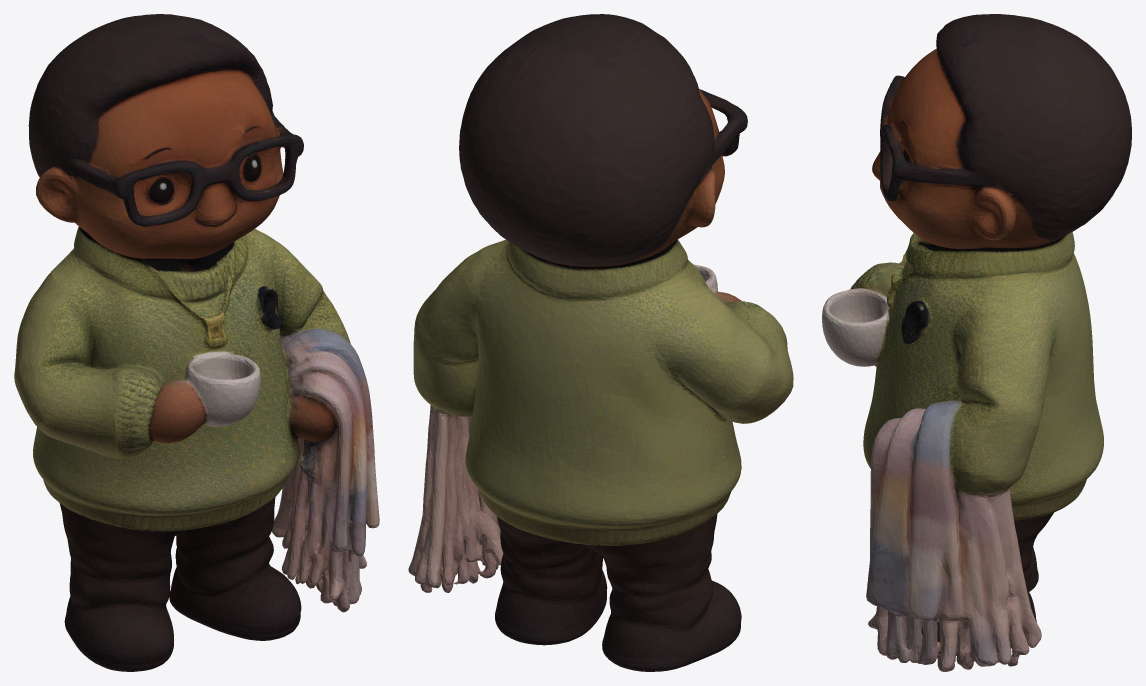
The model's file is ben.glb.
3 views of the same model, side by side, from view 1: azimuth 30°, elevation 25°; view 2: azimuth 150°, elevation 25°; view 3: azimuth 270°, elevation 25° (orthographic). The views are drawn at different scales.
Visible parts, largest first — view 1: material; view 2: material; view 3: material.
Boxes of the visible parts, box(x1,y1,x2,y2) form: material: box(14, 14, 379, 671); material: box(408, 14, 793, 671); material: box(822, 14, 1131, 671).
Size of the model in its own units: 0.6599 by 1.1 by 0.53.
1 material, 1 textured.
